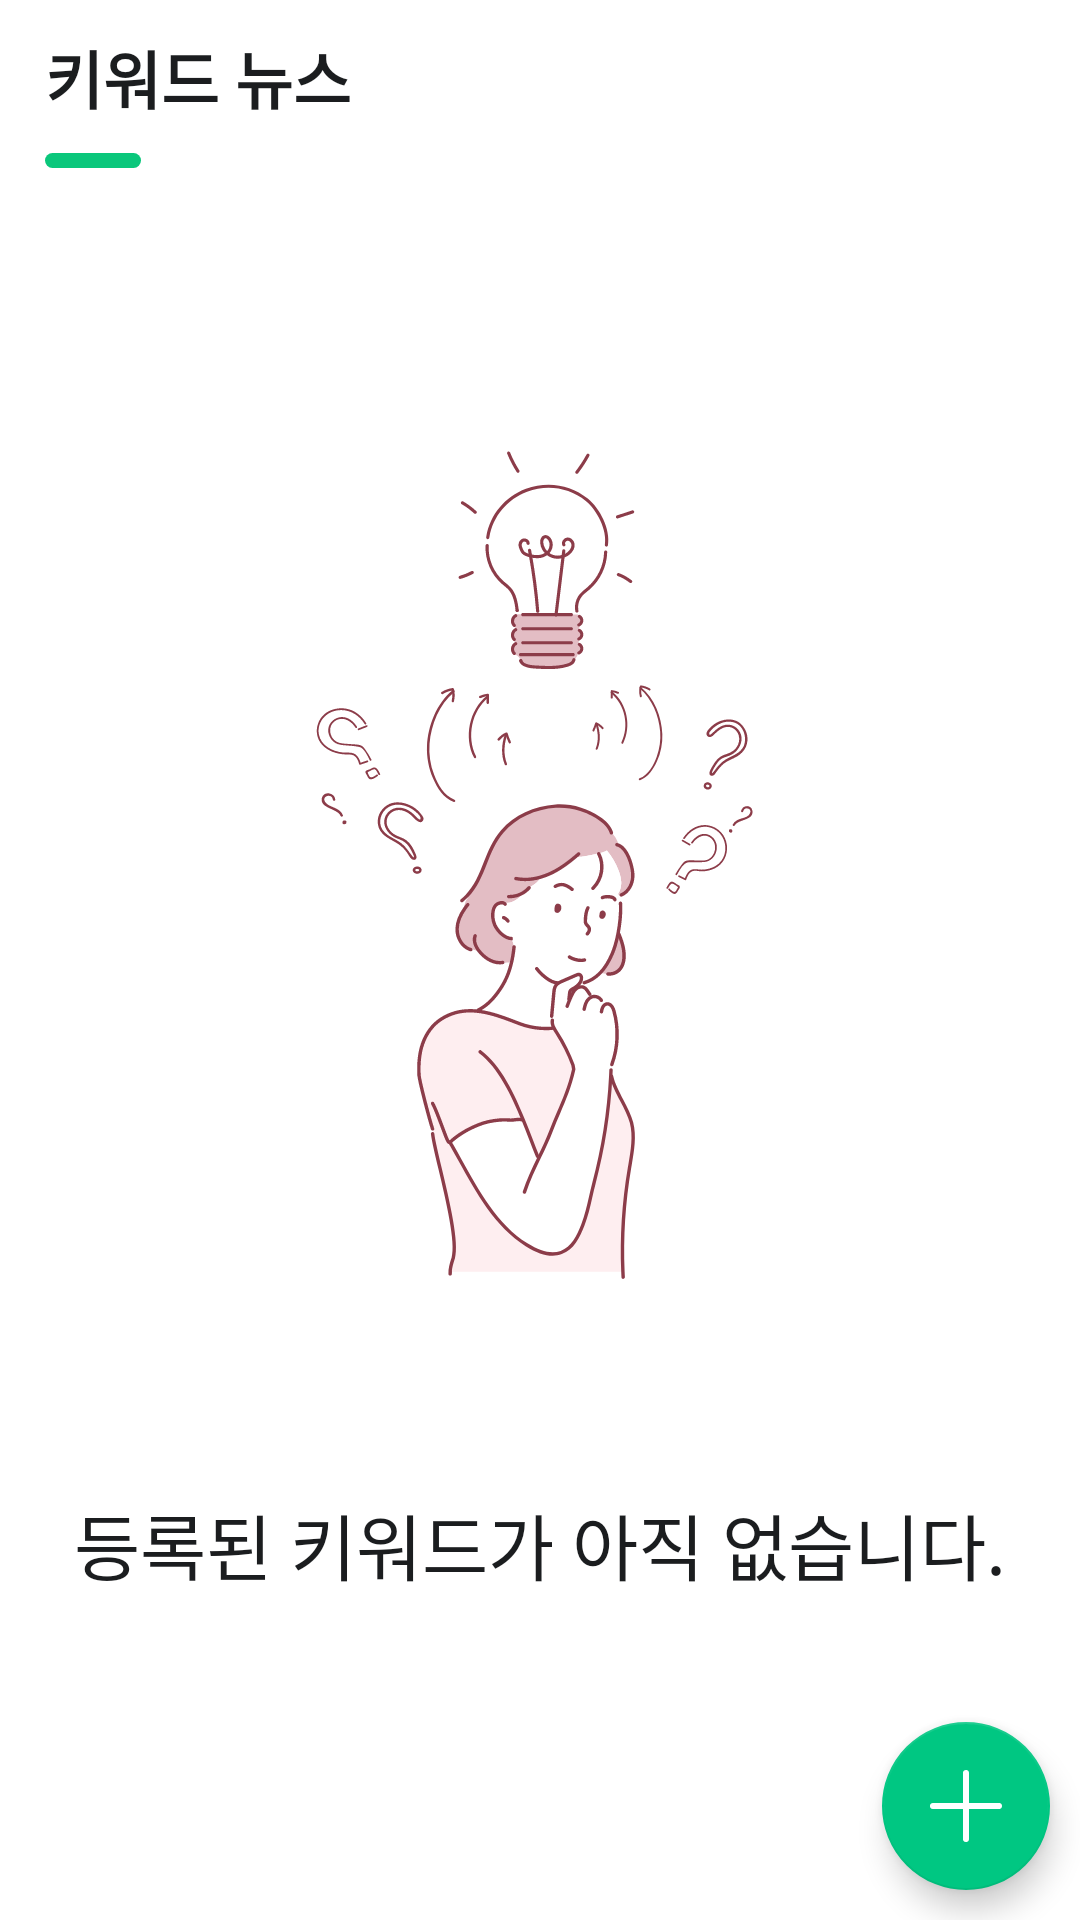

Icons on this 1080px×1920px Android screen, each with its box as bbox=(x1, y1, x2, y2):
plus: bbox=(882, 1722, 1050, 1890)
